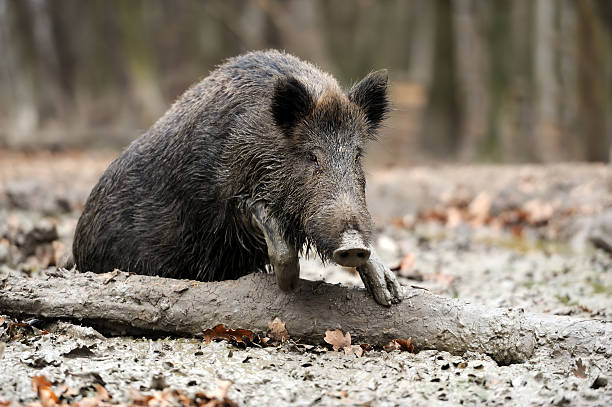pig: (264, 65, 393, 272)
